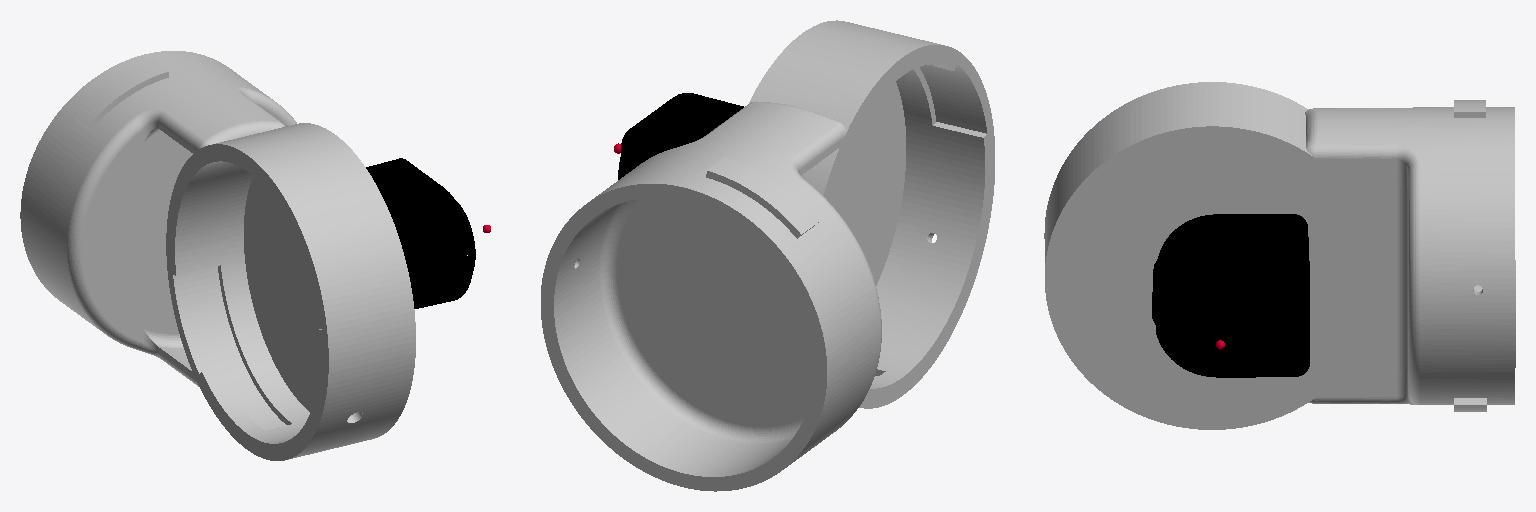
The robot description file, URDF, robot "universal_robot":
<?xml version="1.0"?>
<!--FOR GRIPPER, THERE IS NO LINK INERTIA DEFINED HERE-->
<robot name="universal_robot">

  <!-- Colors -->
  <material name="DarkGrey">
    <color rgba="0.2 0.2 0.2 1.0"/>
  </material>
  <material name="Grey">
    <color rgba="0.4 0.4 0.4 1.0"/>
  </material>
  <material name="Orange">
    <color rgba="1.0 0.423529411765 0.0392156862745 1.0"/>
  </material>
  <material name="Blue">
    <color rgba="0 0.1 1.0 1.0"/>
  </material>
  <material name="LightGrey">
    <color rgba="0.7 0.7 0.7 1.0"/>
  </material>
  <material name="Red">
    <color rgba="0.9 0 0.2 1.0"/>
  </material>
  <material name="TransparentRed">
    <color rgba="0.9 0 0.2 0.5"/>
  </material>
  <material name="Green">
    <color rgba="0 0.9 0.5 1.0"/>
  </material>
  <material name="Yellow">
    <color rgba="0.7 0.7 0 1.0"/>
  </material>
  <material name="LightBlue">
    <color rgba="0. 0.3 1.0 1.0"/>
  </material>
  <material name="Black">
    <color rgba="0.05 0.05 0.05 1.0"/>
  </material>
  <material name="White">
    <color rgba="1.0 1.0 1.0 1.0" />
  </material>



    <!-- connect arm to world -->
      <link name="world"/>
      <joint name="world_joint" type="fixed">
        <parent link="world"/>
        <child link="base_link"/>
        <origin rpy="0.0 0.0 -3.14" xyz="0.0 0.0 0.0"/>
      </joint>


      <link name="base_link">
        <visual>
          <geometry>
            <mesh filename="visual/base.obj"/>
          </geometry>
          <material name="LightGrey"/>
        </visual>
        <collision>
          <geometry>
            <mesh filename="collision/base.stl"/>
          </geometry>
        </collision>
        <inertial>
          <mass value="4.0"/>
          <origin rpy="0 0 0" xyz="0.0 0.0 0.0"/>
          <inertia ixx="0.00443333156" ixy="0.0" ixz="0.0" iyy="0.00443333156" iyz="0.0" izz="0.0072"/>
        </inertial>
      </link>

      <joint name="base_joint" type="revolute">
        <parent link="base_link"/>
        <child link="shoulder_link"/>
        <origin rpy="0.0 0.0 0.0" xyz="0.0 0.0 0.089159"/>
        <axis xyz="0 0 1"/>
        <limit effort="150.0" lower="-100" upper="100" velocity="3.15"/>
        <dynamics damping="0.5" friction="0.0"/>
      </joint>

      <link name="shoulder_link">
        <visual>
          <geometry>
            <mesh filename="visual/shoulder.obj"/>
          </geometry>
          <material name="DarkGrey"/>
        </visual>
        <collision>
          <geometry>
            <mesh filename="collision/shoulder.stl"/>
          </geometry>
        </collision>
        <inertial>
          <mass value="3.7"/>
          <origin rpy="0 0 0" xyz="0.0 0.0 0.0"/>
          <inertia ixx="0.010267495893" ixy="0.0" ixz="0.0" iyy="0.010267495893" iyz="0.0" izz="0.00666"/>
        </inertial>
      </link>

      <joint name="shoulder_joint" type="revolute">
        <parent link="shoulder_link"/>
        <child link="upper_arm_link"/>
        <origin rpy="0.0 1.57079632679 0.0" xyz="0.0 0.13585 0.0"/>
        <axis xyz="0 1 0"/>
        <limit effort="150.0" lower="-100" upper="100" velocity="3.15"/>
        <dynamics damping="0.5" friction="0.0"/>
      </joint>

      <link name="upper_arm_link">
        <visual>
          <geometry>
            <mesh filename="visual/upperarm.obj"/>
          </geometry>
          <material name="LightGrey"/>
        </visual>
        <collision>
          <geometry>
            <mesh filename="collision/upperarm.stl"/>
          </geometry>
        </collision>
        <inertial>
          <mass value="8.393"/>
          <origin rpy="0 0 0" xyz="0.0 0.0 0.28"/>
          <inertia ixx="0.22689067591" ixy="0.0" ixz="0.0" iyy="0.22689067591" iyz="0.0" izz="0.0151074"/>
        </inertial>
      </link>

      <joint name="elbow_joint" type="revolute">
        <parent link="upper_arm_link"/>
        <child link="forearm_link"/>
        <origin rpy="0.0 0.0 0.0" xyz="0.0 -0.1197 0.425"/>
        <axis xyz="0 1 0"/>
        <limit effort="150.0" lower="-100" upper="100" velocity="3.15"/>
        <dynamics damping="0.5" friction="0.0"/>
      </joint>

      <link name="forearm_link">
        <visual>
          <geometry>
            <mesh filename="visual/forearm.obj"/>
          </geometry>
          <material name="DarkGrey"/>
        </visual>
        <collision>
          <geometry>
            <mesh filename="collision/forearm.stl"/>
          </geometry>
        </collision>
        <inertial>
          <mass value="2.275"/>
          <origin rpy="0 0 0" xyz="0.0 0.0 0.25"/>
          <inertia ixx="0.049443313556" ixy="0.0" ixz="0.0" iyy="0.049443313556" iyz="0.0" izz="0.004095"/>
        </inertial>
      </link>

      <joint name="wrist_1_joint" type="revolute">
        <parent link="forearm_link"/>
        <child link="wrist_1_link"/>
        <origin rpy="0.0 1.57079632679 0.0" xyz="0.0 0.0 0.39225"/>
        <axis xyz="0 1 0"/>
        <limit effort="28.0" lower="-100" upper="100" velocity="3.2"/>
        <dynamics damping="0.5" friction="0.0"/>
      </joint>

      <link name="wrist_1_link">
        <visual>
          <geometry>
            <mesh filename="visual/wrist1.obj"/>
          </geometry>
          <material name="LightGrey"/>
        </visual>
        <collision>
          <geometry>
            <mesh filename="collision/wrist1.stl"/>
          </geometry>
        </collision>
        <inertial>
          <mass value="1.219"/>
          <origin rpy="0 0 0" xyz="0.0 0.0 0.0"/>
          <inertia ixx="0.111172755531" ixy="0.0" ixz="0.0" iyy="0.111172755531" iyz="0.0" izz="0.21942"/>
        </inertial>
      </link>

      <joint name="wrist_2_joint" type="revolute">
        <parent link="wrist_1_link"/>
        <child link="wrist_2_link"/>
        <origin rpy="0.0 0.0 0.0" xyz="0.0 0.093 0.0"/>
        <axis xyz="0 0 1"/>
        <limit effort="28.0" lower="-100" upper="100" velocity="3.2"/>
        <dynamics damping="0.5" friction="0.0"/>
      </joint>

      <link name="wrist_2_link">
        <visual>
          <geometry>
            <mesh filename="visual/wrist2.obj"/>
          </geometry>
          <material name="DarkGrey"/>
        </visual>
        <collision>
          <geometry>
            <mesh filename="collision/wrist2.stl"/>
          </geometry>
        </collision>
        <inertial>
          <mass value="1.219"/>
          <origin rpy="0 0 0" xyz="0.0 0.0 0.0"/>
          <inertia ixx="0.111172755531" ixy="0.0" ixz="0.0" iyy="0.111172755531" iyz="0.0" izz="0.21942"/>
        </inertial>
      </link>

      <joint name="wrist_3_joint" type="revolute">
        <parent link="wrist_2_link"/>
        <child link="wrist_3_link"/>
        <origin rpy="0.0 0.0 0.0" xyz="0.0 0.0 0.09465"/>
        <axis xyz="0 1 0"/>
        <limit effort="28.0" lower="-100" upper="100" velocity="3.2"/>
        <dynamics damping="0.5" friction="0.0"/>
      </joint>

      <link name="wrist_3_link">
        <visual>
          <geometry>
            <mesh filename="visual/wrist3.obj"/>
          </geometry>
          <material name="LightGrey"/>
        </visual>
        <collision>
          <geometry>
            <mesh filename="collision/wrist3.stl"/>
          </geometry>
        </collision>
        <inertial>
          <mass value="0.1879"/>
          <origin rpy="0 0 0" xyz="0.0 0.0 0.0"/>
          <inertia ixx="0.0171364731454" ixy="0.0" ixz="0.0" iyy="0.0171364731454" iyz="0.0" izz="0.033822"/>
        </inertial>
      </link>

      <!-- End Effector -->

      <joint name="ee_joint" type="fixed">
        <parent link="wrist_3_link"/>
        <child link="ee_link"/>
        <origin rpy="1.57 3.14 0.0" xyz="0.0 0.0823 0.0"/>
      </joint>

      <link name="ee_link">
        <visual>
          <origin rpy="0 0 0" xyz="0 0 0"/>
          <geometry>
            <sphere radius="0.001"/>
          </geometry>
           <material name="Red"/>
        </visual>
        <collision>
          <geometry>
            <sphere radius="0.001"/>
          </geometry>
          <origin rpy="0 0 0" xyz="0.0 0 0"/>
        </collision>
        <inertial>
          <mass value="0.0"/>
          <origin rpy="-3.14 0.0 1.57" xyz="0.0 0.0 0.0"/>
          <inertia ixx="0.001" ixy="0.0" ixz="0.0" iyy="0.001" iyz="0.0" izz="0.001"/>
        </inertial>
      </link>

      <!-- digitac -->

      <link name="tactip_adapter_link">
        <inertial>
          <origin rpy="0 0 0" xyz="0 0 0"/>
           <mass value="0.1"/>
           <inertia ixx="0.001" ixy="0" ixz="0" iyy="0.001" iyz="0" izz="0.001"/>
        </inertial>
        <visual>
          <origin rpy="0 0 0" xyz="0 0 0"/>
          <geometry>
    				<mesh filename="../tactip/right_angle_tactip/adapter/right_angle_adapter.obj" scale="1.0 1.0 1.0"/>
          </geometry>
           <material name="whitish">
            <color rgba="0.8 0.8 0.8 1.0"/>
          </material>
        </visual>
        <collision>
          <origin rpy="0 0 0" xyz="0 0 0"/>
          <geometry>
    				<mesh filename="../tactip/right_angle_tactip/adapter/right_angle_adapter.obj" scale="1.0 1.0 1.0"/>
          </geometry>
        </collision>
      </link>

      <joint name="digitac_ee_joint" type="fixed">
        <parent link="ee_link"/>
        <child link="tactip_adapter_link"/>
        <origin rpy="-1.57 -1.57 -1.57" xyz="0.0 0.005 -0.04"/>
      </joint>


  <link
    name="digitac_body_link">
  <inertial>
      <origin
        xyz="0.0044483897843889 -0.0137570316187898 -1.33478473442024E-08+0.02"
        rpy="0 0 0" />
      <mass
        value="0.00791827593084163" />
      <inertia
        ixx="7.86145751817283E-07"
        ixy="-4.85149902505629E-09"
        ixz="4.89421524982813E-12"
        iyy="1.59818901807298E-06"
        iyz="-2.18755873901251E-12"
        izz="1.06961344577448E-06" />
    </inertial>
    <visual>
      <origin
        xyz="0 0 0.02"
        rpy="0 0 0" />
      <geometry>
        <mesh
          filename="../digitac/standard_digitac/digitac_asmb/meshes/digitac_body.STL" />
      </geometry>
      <material
        name="body_color">
        <color
          rgba="0.0 0.0 0.0 1" />
      </material>
    </visual>
    <collision>
      <origin
        xyz="0 0 0.02"
        rpy="0 0 0" />
      <geometry>
        <mesh
          filename="../digitac/standard_digitac/digitac_asmb/meshes/digitac_body.STL" />
      </geometry>
    </collision>
  </link>


      <joint name="digitac_body_to_adapter" type="fixed">
         <origin rpy="0 3.14 3.14" xyz="0 0 -0.014"/>
         <parent link="tactip_adapter_link"/>
         <child link="digitac_body_link"/>
      </joint>

  <link
    name="digitac_tip_link">


        <inertial>
      <origin
        xyz="1.95689617055233E-05 -0.00418318281817305 -0.00513072481258713-0.02"
        rpy="0 0 0" />
      <mass
        value="0.000211579321175967" />
      <inertia
        ixx="1.6421406108058E-08"
        ixy="-3.59682768116548E-11"
        ixz="8.26721658003392E-12"
        iyy="1.10821033019274E-08"
        iyz="-1.94916165896316E-10"
        izz="2.23470337659004E-08" />
    </inertial>
    <visual>
      <origin
        xyz="0 0 -0.02"
        rpy="0 0 0" />
      <geometry>
        <mesh
          filename="../digitac/standard_digitac/digitac_asmb_hollow/meshes/digitac_core.STL" />
      </geometry>
      <material
        name="skincolor">
        <color
          rgba="1.0 1.0 1.0 1" />
      </material>
    </visual>
    <collision>
      <origin
        xyz="0 0 -0.02"
        rpy="0 0 0" />
      <geometry>
        <mesh
          filename="../digitac/standard_digitac/digitac_asmb/meshes/digitac_core.STL" />
      </geometry>
    </collision>
  </link>


  <joint
    name="digitac_tip_to_body"
    type="fixed">
    <origin
      xyz="0 0 0"
      rpy="3.14159265358979 0 -1.5707963267949" />
    <parent
      link="digitac_body_link" />
    <child
      link="digitac_tip_link" />
    <axis
      xyz="0 0 0" />
  </joint>


      <!-- TCP -->
      <link name="tcp_link">
        <visual>
          <origin rpy="0 0 0" xyz="0 0 0"/>
          <geometry>
            <sphere radius="0.001"/>
          </geometry>
           <material name="TransparentRed"/>
        </visual>
        <inertial>
          <mass value="0.0"/>
          <origin rpy="0.0 0.0 1.57" xyz="0.0 0.0 0.0"/>
          <inertia ixx="1.0" ixy="0.0" ixz="0.0" iyy="1.0" iyz="0.0" izz="1.0"/>
        </inertial>
      </link>

      <joint name="tcp_joint" type="fixed">
        <parent link="digitac_body_link"/>
        <child link="tcp_link"/>
        <!-- y x z -->
        <origin rpy="1.57 0 -1.57" xyz="0.0007 0.0 0.031"/>
        <!-- <origin rpy="0 0 0" xyz="0.00145 0.0 0.025"/> -->
        <!-- <origin rpy="0 0 0" xyz="0.0018 0.0 0.025"/> -->
      </joint>



  <!-- <link
    name="sq_link">
    <inertial>
      <origin
        xyz="-0.00535000000000003 0.00799999999999999 5.00000000005617E-06-0.02"
        rpy="0 0 0" />
      <mass
        value="1.59999999999993E-07" />
      <inertia
        ixx="5.33346666666645E-14"
        ixy="-1.34013559776601E-30"
        ixz="4.41903370583012E-33"
        iyy="5.33346666666645E-14"
        iyz="-3.65677197028787E-28"
        izz="1.06666666666662E-13" />
    </inertial>
    <visual>
      <origin
        xyz=" +0.22  +0.22  +0.22"
        rpy="0 0 0" />
      <geometry>
        <mesh
          filename="../digitac/standard_digitac/digitac_asmb_skin_with_marks/meshes/sq_link.STL" />
      </geometry>
      <material
        name="Green">
        <color
          rgba="0.9 0.9 0.9 0" />
      </material>
    </visual>
    <collision>
      <origin
        xyz=" +0.22  +0.22 +0.22"
        rpy="0 0 0" />
      <geometry>
        <mesh
          filename="../digitac/standard_digitac/digitac_asmb_skin_with_marks/meshes/sq_link.STL" />
      </geometry>
    </collision>
  </link>


  <joint
    name="skin_sq_joint"
    type="fixed">
    <origin
      xyz="-0.00535000000000005 0.0132650762017464 -0.00645000000000009"
      rpy="0 0 3.14159265358979" />
    <parent
      link="digitac_tip_link" />
    <child
      link="sq_link" />
    <axis
      xyz="0 0 0" />
  </joint> -->

</robot>

--- Render facts (derived) ---
The picture shows the robot from 3 angles, left to right: view 1: azimuth 30°, elevation 25°; view 2: azimuth 150°, elevation 25°; view 3: azimuth 270°, elevation 25°; orthographic projection.
Robot: universal_robot — 13 links, 12 joints (6 revolute, 6 fixed); root link world; default pose: every joint at zero.
Links seen in each view (by area): view 1: tactip_adapter_link, digitac_body_link; view 2: tactip_adapter_link, digitac_body_link; view 3: tactip_adapter_link, digitac_body_link.
Link boxes in pixels (x1,y1,x2,y2): tactip_adapter_link: (20, 51, 415, 460); digitac_body_link: (366, 158, 475, 308); tactip_adapter_link: (541, 20, 994, 491); digitac_body_link: (618, 93, 743, 179); tactip_adapter_link: (1044, 82, 1515, 429); digitac_body_link: (1152, 214, 1309, 377).
Size in the robot's own frame: 0.0841 by 0.1011 by 0.0721 metres.
Meshes: 10 distinct files referenced, 2 mesh visuals loaded (1 binary STL, 1 OBJ); not drawn: 8 (reference not matched to a file when rendering).